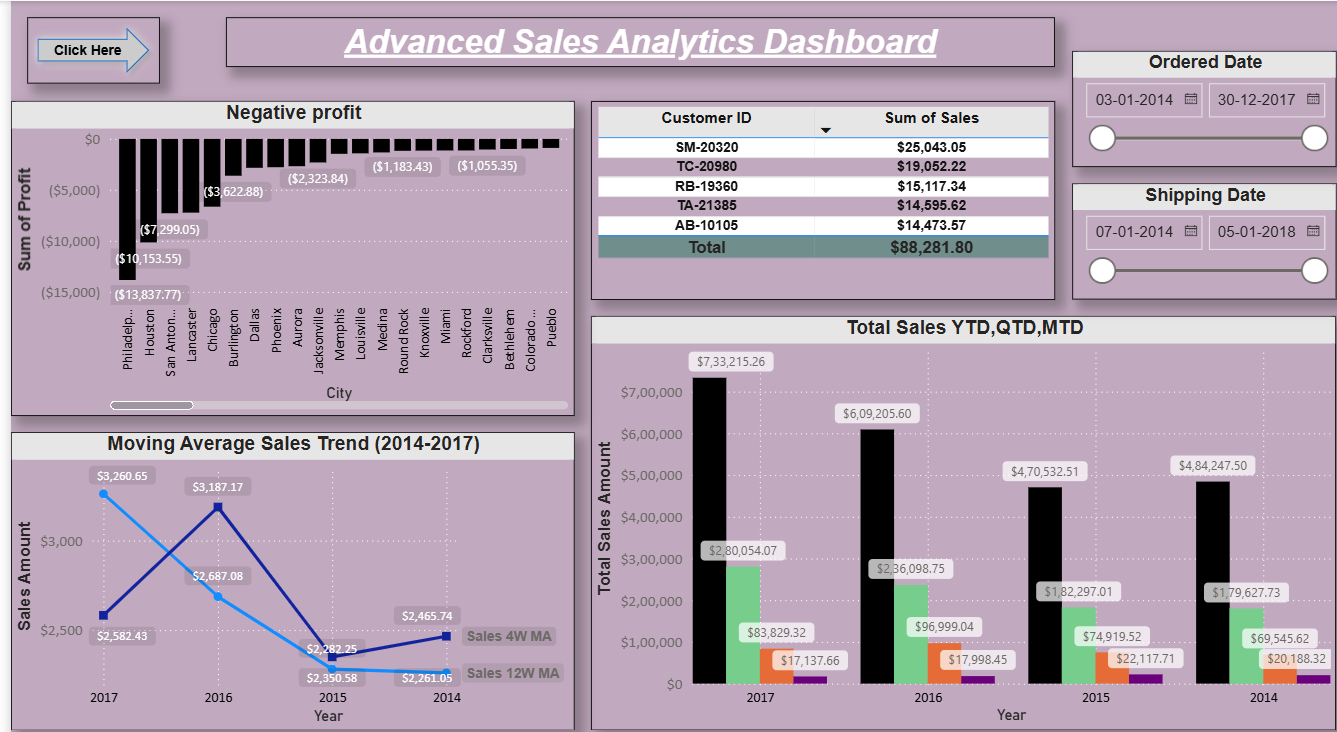

Layout of this report page (visuals, bound fields, positions):
{"tool":"powerbi","page":{"name":"Report 2","canvas":[1280,720],"ordinal":1},"visuals":[{"type":"tableEx","title":"Top  5 Sales Customers","fields":{"Values":["Orders.Customer ID","Sum(Orders.Sales)"]},"box":[560,96,448,192],"z":0},{"type":"clusteredColumnChart","title":"Total Sales YTD,QTD,MTD","fields":{"Y":["Orders.Total Sales YTD","Orders.Total Sales QTD","Orders.Total Sales MTD","Orders.Total Sales WTD"],"Category":["Orders.Order Date.Variation.Date Hierarchy.Year"]},"box":[560,304,720,400],"z":1000},{"type":"shape","box":[16,16,128,64],"z":2000},{"type":"clusteredColumnChart","title":"Negative profit","fields":{"Category":["Orders.City"],"Y":["Sum(Orders.Profit)"]},"box":[0,96,544,304],"z":3000},{"type":"slicer","title":"Shipping Date","fields":{"Values":["Orders.Ship Date"]},"box":[1024,176,256,112],"z":4000},{"type":"slicer","title":"Ordered Date","fields":{"Values":["Orders.Order Date"]},"box":[1024,48,256,112],"z":5000},{"type":"lineChart","title":"Moving Average Sales Trend (2014-2017)","fields":{"Y":["Orders.Sales 12W MA","Orders.Sales 4W MA"],"Category":["Orders.Order Date.Variation.Date Hierarchy.Year","Orders.Order Date.Variation.Date Hierarchy.Quarter","Orders.Order Date.Variation.Date Hierarchy.Month","Orders.Order Date.Variation.Date Hierarchy.Day"]},"box":[0,416,544,288],"z":6000},{"type":"textbox","box":[208,16,800,48],"z":7000}]}

Visuals, with their boxes in screenshot pixels (x1, y1, x2, y2), scaled from the page's 1280x720 canvas onto the 1337x732 screenshot:
"Top  5 Sales Customers" tableEx: [left=585, top=98, right=1053, bottom=293]
"Total Sales YTD,QTD,MTD" clusteredColumnChart: [left=585, top=309, right=1336, bottom=716]
shape: [left=17, top=16, right=150, bottom=81]
"Negative profit" clusteredColumnChart: [left=0, top=98, right=568, bottom=407]
"Shipping Date" slicer: [left=1070, top=179, right=1336, bottom=293]
"Ordered Date" slicer: [left=1070, top=49, right=1336, bottom=163]
"Moving Average Sales Trend (2014-2017)" lineChart: [left=0, top=423, right=568, bottom=716]
textbox: [left=217, top=16, right=1053, bottom=65]
